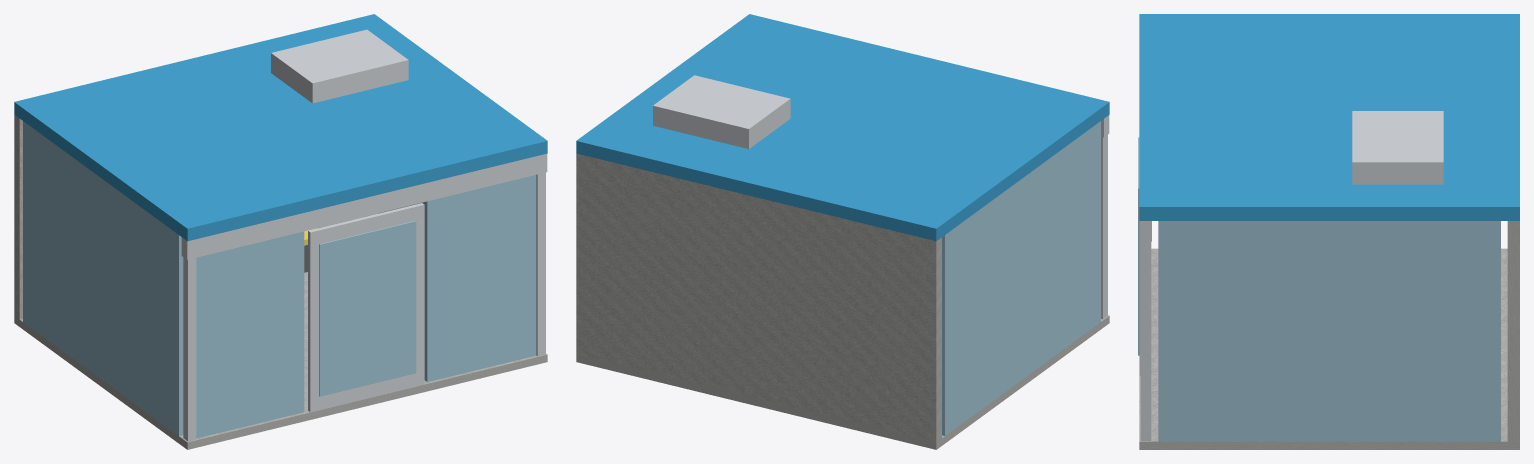
File: bus-station-and-city-transit-waiting-room-module-b12d89b2__34210.glb
The picture shows the model from 3 angles, left to right: view 1: azimuth 30°, elevation 25°; view 2: azimuth 150°, elevation 25°; view 3: azimuth 270°, elevation 25°; orthographic projection. The views are drawn at different scales.
Parts seen in each view (by area): view 1: waiting-room-module-glass, waiting-room-module-azure, waiting-room-module-steel, door-room/glass, waiting-room-module-concrete, door-room/steel; view 2: waiting-room-module-concrete, waiting-room-module-azure, waiting-room-module-glass, waiting-room-module-steel; view 3: waiting-room-module-glass, waiting-room-module-azure, waiting-room-module-steel, waiting-room-module-concrete, door-room/glass.
Boxes of the visible parts, x1,y1,x2,y2 form: waiting-room-module-glass: [23, 121, 536, 438]; waiting-room-module-azure: [14, 14, 547, 241]; waiting-room-module-steel: [181, 29, 547, 441]; door-room/glass: [319, 221, 416, 396]; waiting-room-module-concrete: [14, 115, 547, 449]; door-room/steel: [308, 203, 424, 412]; waiting-room-module-concrete: [576, 153, 1109, 449]; waiting-room-module-azure: [576, 14, 1109, 241]; waiting-room-module-glass: [942, 121, 1100, 435]; waiting-room-module-steel: [653, 75, 1109, 319]; waiting-room-module-glass: [1158, 221, 1500, 441]; waiting-room-module-azure: [1139, 14, 1519, 220]; waiting-room-module-steel: [1140, 111, 1443, 440]; waiting-room-module-concrete: [1139, 221, 1519, 449]; door-room/glass: [1138, 137, 1139, 355].
Size of the model in its own units: 6 by 3.84 by 5.02.
Materials: 6 (1 with a texture image).
